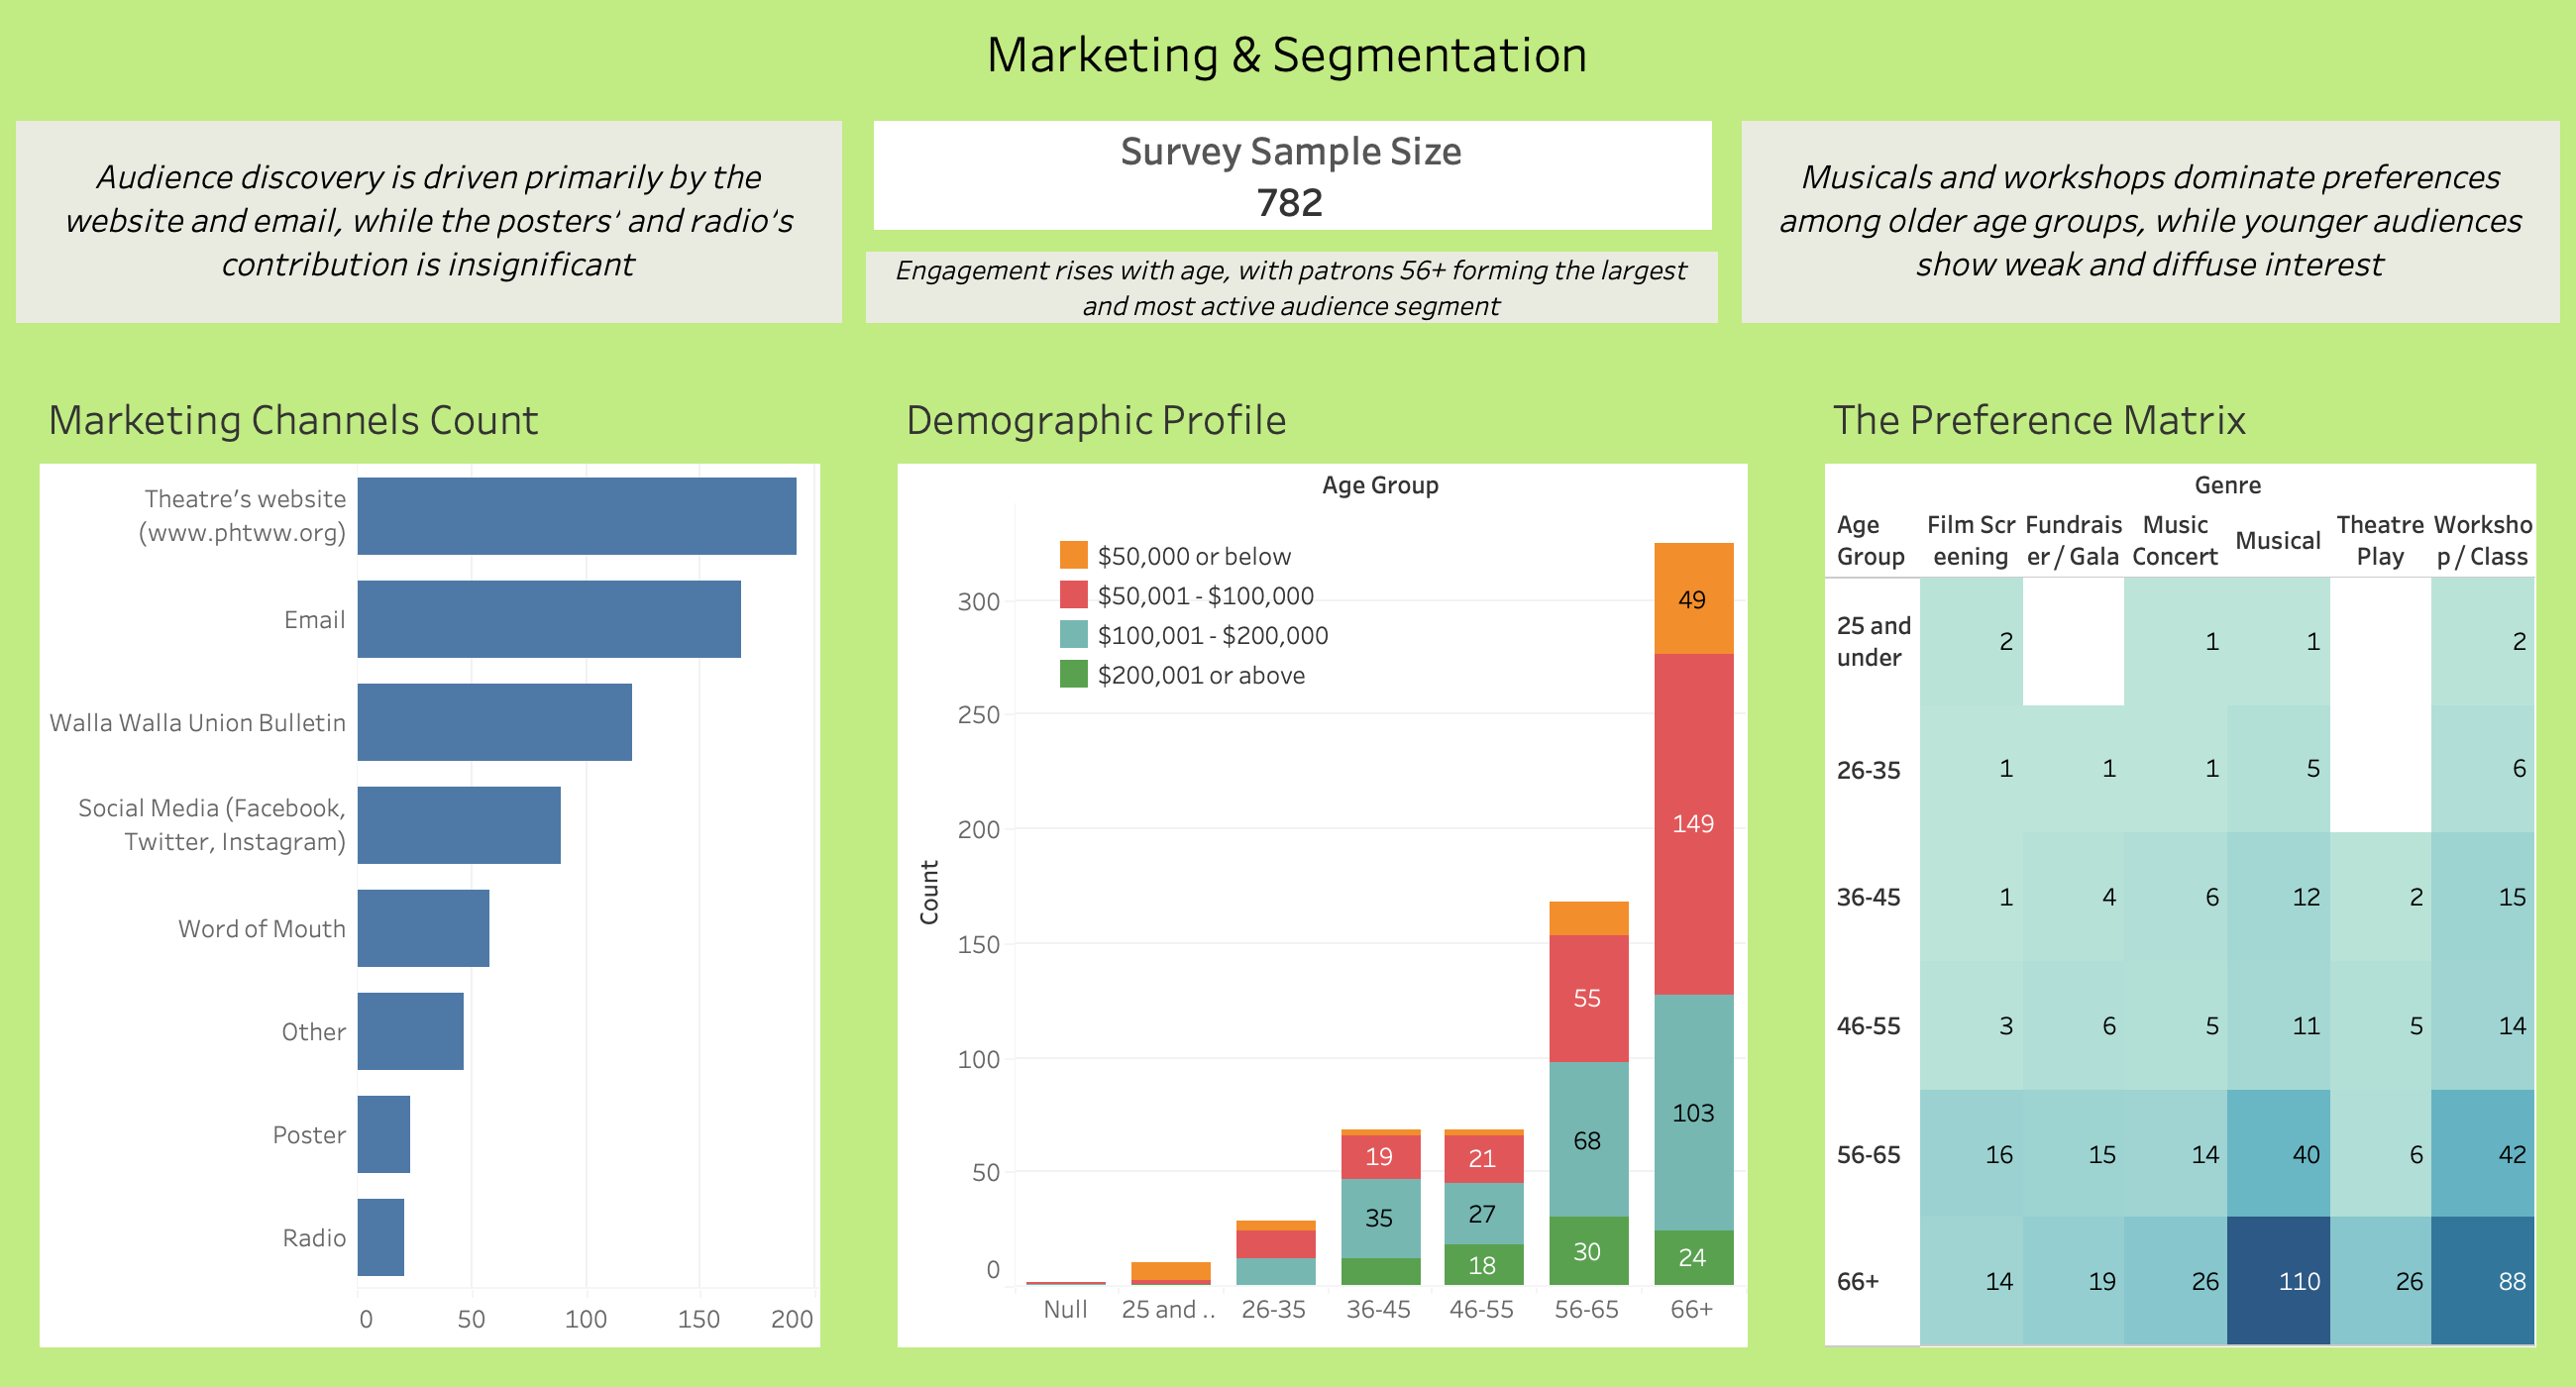

This screenshot's page, from the dashboard's own definition file:
{"tool":"tableau","page":{"name":"4_customer_segmentation","canvas":[1300,700],"ordinal":3},"visuals":[{"type":"text","box":[0,0,1300,53]},{"type":"legend","title":"The Preference Matrix","param":"[federated.0s4e0il1bge7j41crlatp0wf75y2].[__tableau_internal_object_id__].[cnt:0","box":[1132,8,160,65]},{"type":"text","box":[0,53,433,118]},{"type":"worksheet","title":"KPI Marketing","mark":"Automatic","box":[433,53,438,70]},{"type":"text","box":[871,53,429,118]},{"type":"text","box":[433,123,438,44]},{"type":"worksheet","title":"Marketing Channels Count","mark":"Automatic","box":[0,171,433,529]},{"type":"worksheet","title":"Demographic Profile","mark":"Automatic","rows":["02_raw_feedback.csv_1EC73C7D1FF24A359D52785FAA686BE9"],"cols":["age_group"],"box":[433,171,467.7,529]},{"type":"worksheet","title":"The Preference Matrix","mark":"Square","rows":["age_group"],"cols":["genre"],"box":[900.7,171,399.3,529]},{"type":"legend","title":"Demographic Profile","param":"[federated.0s4e0il1bge7j41crlatp0wf75y2].[none:annual_household_income:nk]","box":[532,270,151,89]}]}

Visuals, with their boxes in screenshot pixels (x1, y1, x2, y2), scaled from the page's 1300x700 canvas onto the 2576x1387 screenshot:
text: (0,0,2575,105)
"The Preference Matrix" legend: (2243,16,2560,145)
text: (0,105,858,339)
"KPI Marketing" worksheet: (858,105,1726,244)
text: (1726,105,2575,339)
text: (858,244,1726,331)
"Marketing Channels Count" worksheet: (0,339,858,1386)
"Demographic Profile" worksheet: (858,339,1784,1386)
"The Preference Matrix" worksheet (Square marks): (1784,339,2575,1386)
"Demographic Profile" legend: (1054,535,1353,711)
